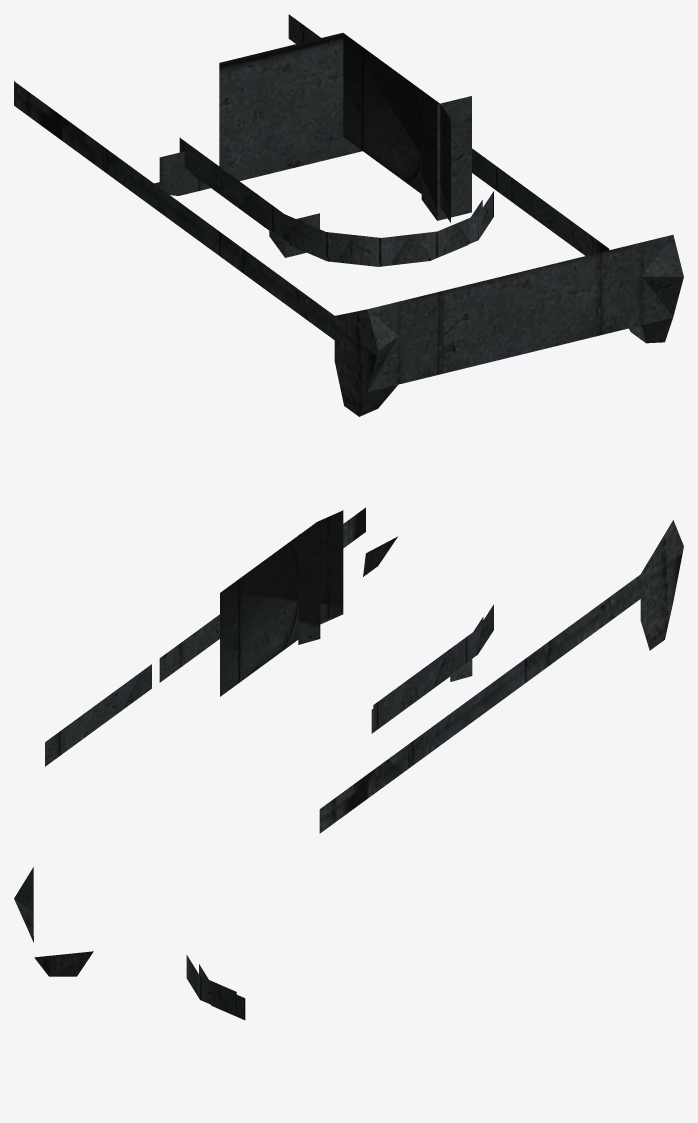
3 renders of one model, top to bottom at view 1: azimuth 30°, elevation 25°; view 2: azimuth 150°, elevation 25°; view 3: azimuth 270°, elevation 25°, orthographic. The views are drawn at different scales.
Parts seen in each view (by area): view 1: model_Object23; view 2: model_Object23; view 3: model_Object23.
Part boxes in pixels (x1,y1,x2,y2): model_Object23: (14,14,683,416); model_Object23: (45,507,683,833); model_Object23: (14,867,245,1019).
Size of the model in its own units: 4 by 2.04 by 8.26.
Materials: 2 (2 with a texture image).
